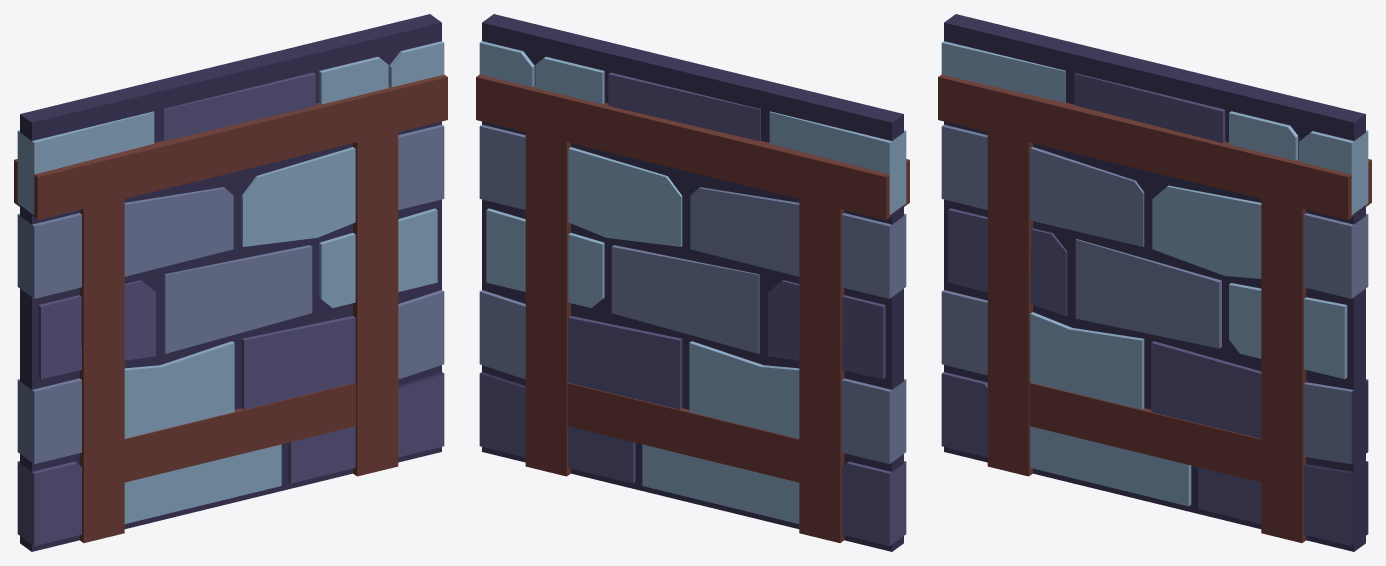
File: Modular Wall 10 MK2.fbx
The picture shows the model from 3 angles, left to right: view 1: azimuth 30°, elevation 25°; view 2: azimuth 150°, elevation 25°; view 3: azimuth 330°, elevation 25°; orthographic projection.
Visible parts, largest first — view 1: Modular Wall 10 MK2; view 2: Modular Wall 10 MK2; view 3: Modular Wall 10 MK2.
Boxes of the visible parts, x1,y1,x2,y2 form: Modular Wall 10 MK2: [14, 14, 447, 551]; Modular Wall 10 MK2: [476, 14, 909, 551]; Modular Wall 10 MK2: [938, 14, 1371, 551].
Bounding box in the file's own units: 400 × 400 × 40.
